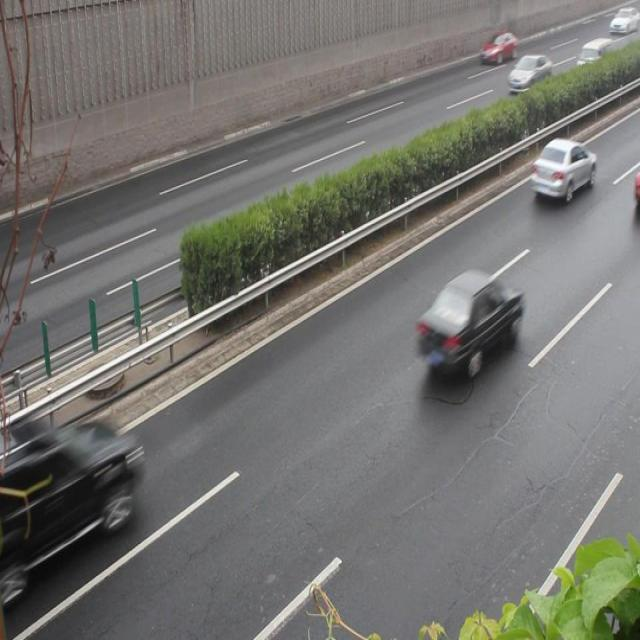car: (1, 419, 135, 578), (416, 269, 522, 372), (530, 138, 594, 202), (480, 31, 516, 69)
